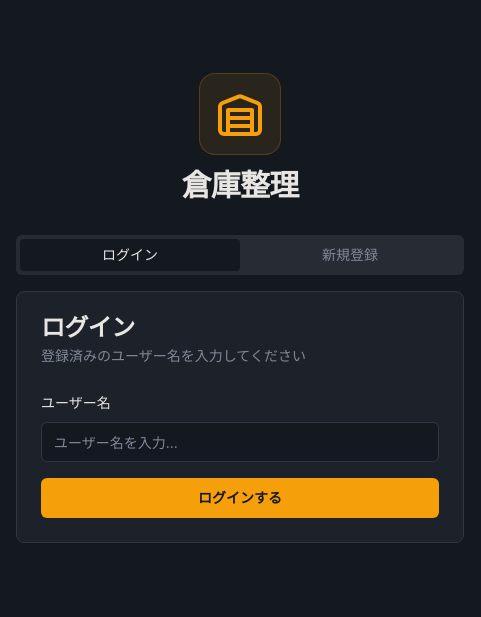
Test: LoginPage — 管理者パスワードフロー › パスワード欄表示後、空のままだとエラーになる
The width and height of the screenshot is (481, 617).
Type "admin" into the field with placeholder "ユーザー名を入力..." at coordinates (240, 442), box [41,422,439,462]
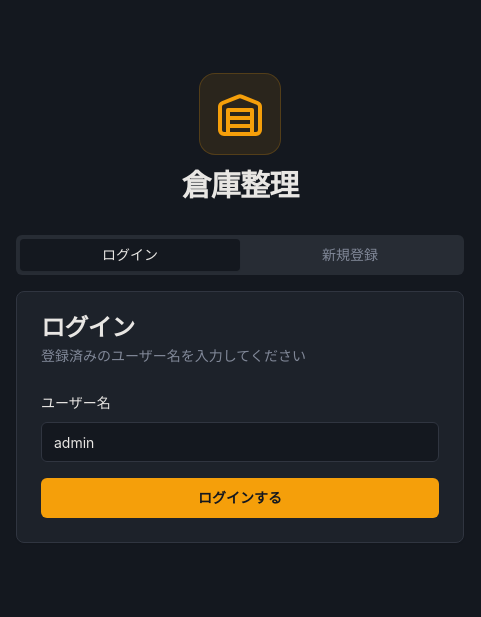
Click the button at coordinates (240, 498), box [41,478,439,518]
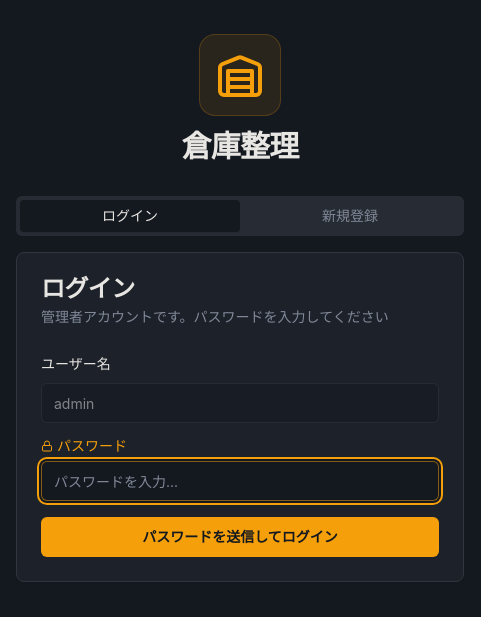
expect the password field with placeholder "パスワードを入力..." is shown: met, box [41,461,439,501]
Click the button at coordinates (240, 537), box [41,517,439,557]
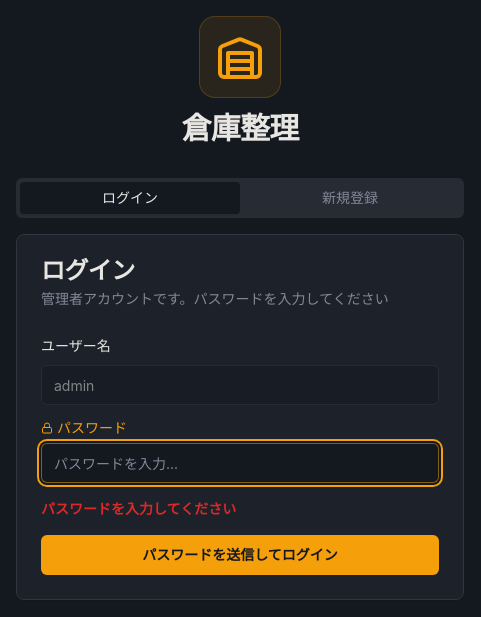
expect the text "パスワードを入力してください" is shown: met, box [41,500,236,517]
